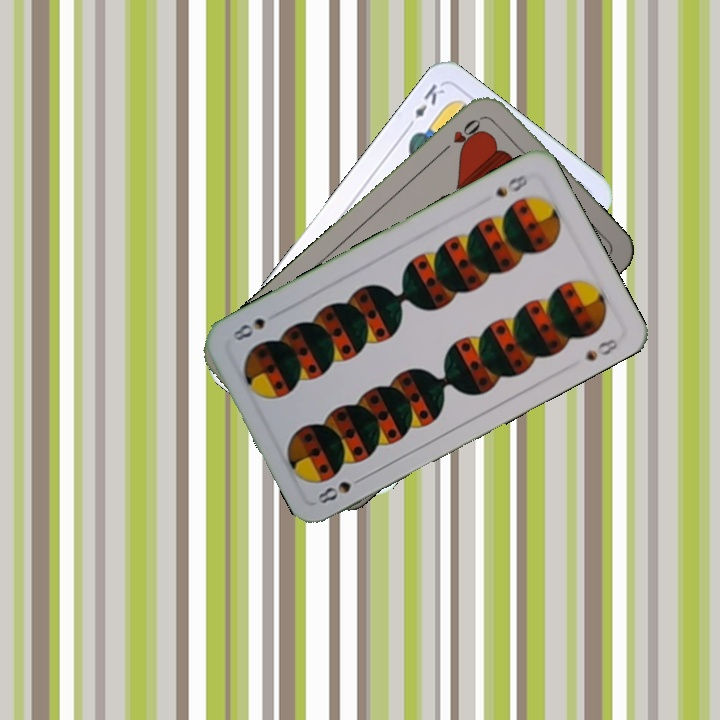EK: (402, 80, 448, 132)
HO: (437, 112, 487, 156)
S8: (313, 477, 354, 507), (491, 170, 530, 200)
